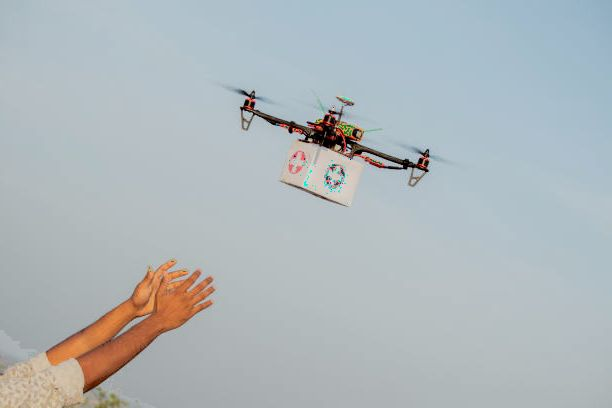Drone: (216, 75, 463, 190)
